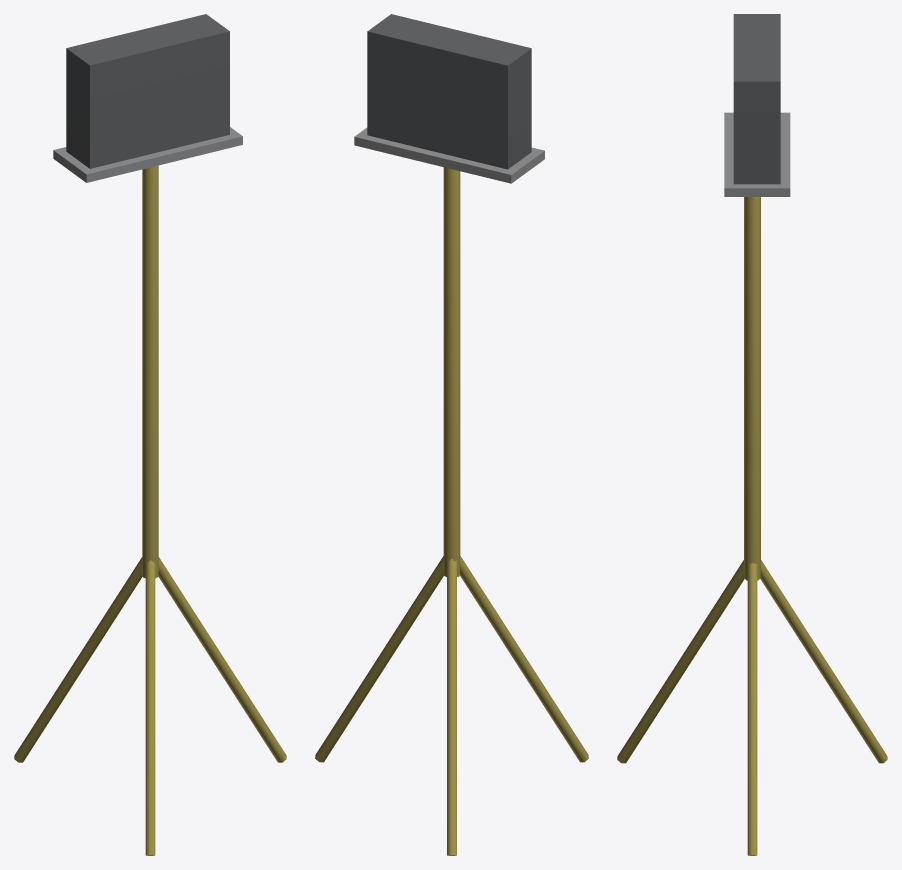
Rendered from lampFloor_steel.glb.
3 views of the same model, side by side, from view 1: azimuth 30°, elevation 25°; view 2: azimuth 150°, elevation 25°; view 3: azimuth 270°, elevation 25° (orthographic).
Visible parts, largest first — view 1: lampFloor_steel; view 2: lampFloor_steel; view 3: lampFloor_steel.
Boxes of the visible parts, x1=… form: lampFloor_steel: x1=14, y1=14, x2=286, y2=855; lampFloor_steel: x1=315, y1=14, x2=588, y2=855; lampFloor_steel: x1=617, y1=14, x2=887, y2=855.
Bounding box in the file's own units: 0.5204 × 1.75 × 0.5736.
